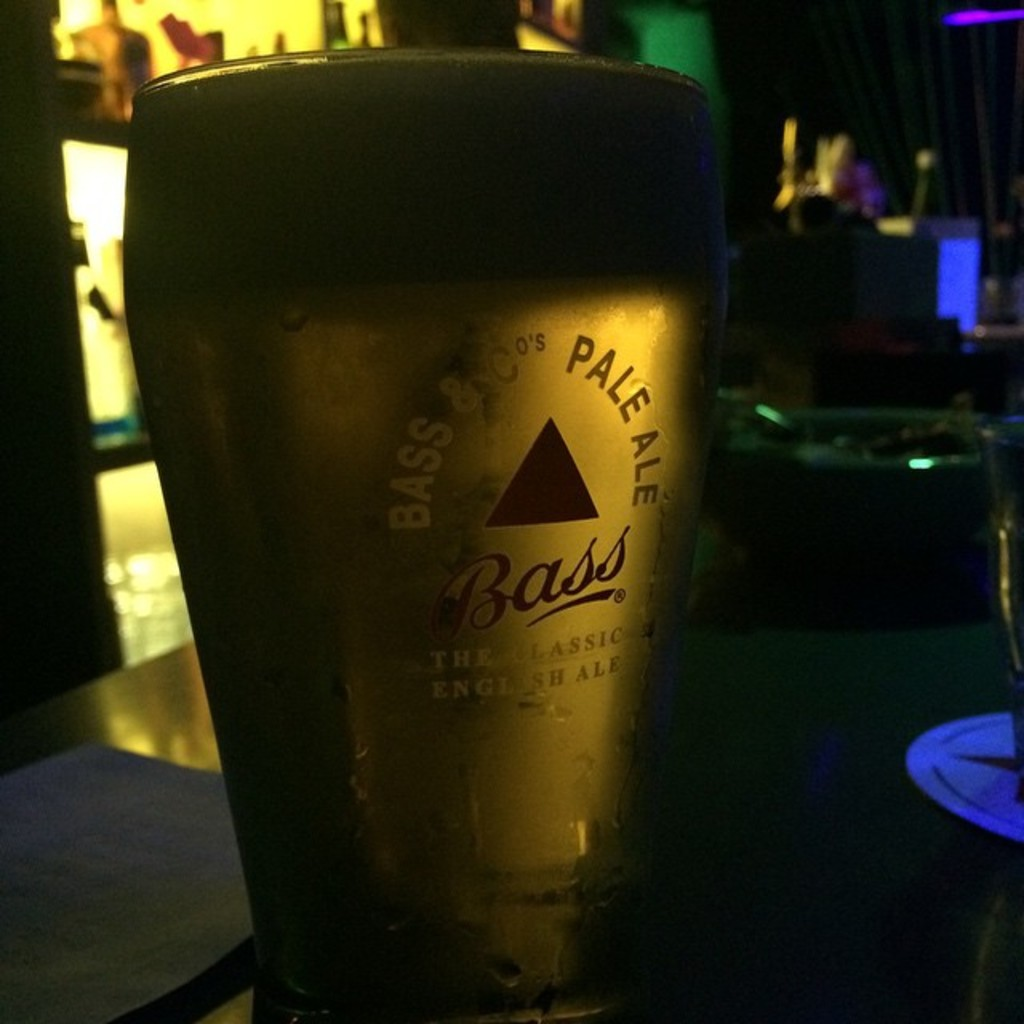Beer: (118, 62, 729, 1020)
